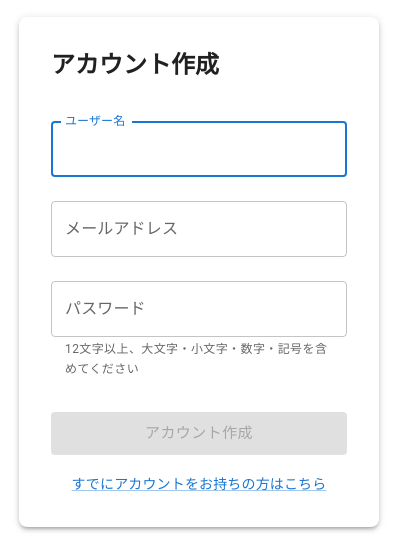
it: Register › ユーザー名・メール・パスワードが揃うまで送信ボタンは無効
Expected: the button "アカウント作成" is disabled, [51,412,347,455]
Type "newmod" into the field labelled "ユーザー名" at (199, 150), box [51,122,347,178]
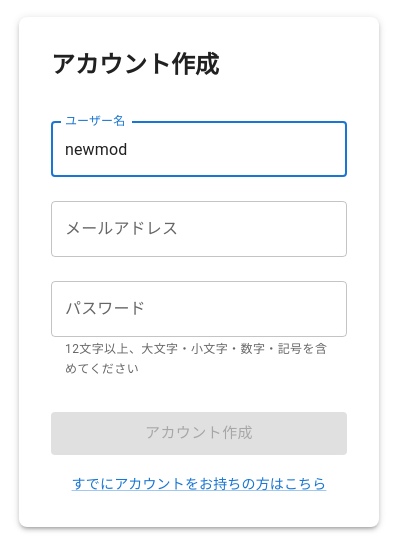
Expected: the button "アカウント作成" is disabled, [51,412,347,455]
Type "newmod@example.com" into the field labelled "メールアドレス" at (199, 230), box [51,202,347,258]
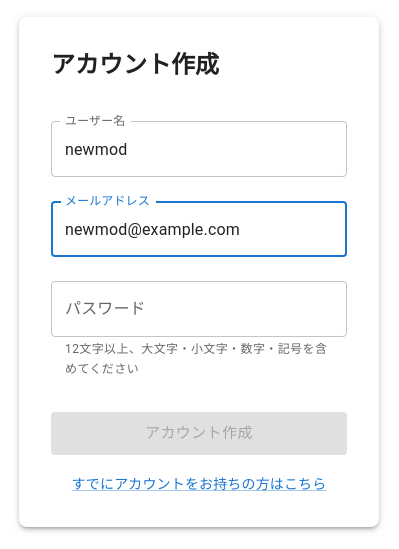
Expected: the button "アカウント作成" is disabled, [51,412,347,455]
Type "SecurePass123!" into the password field labelled "パスワード" at (199, 310), box [51,282,347,338]
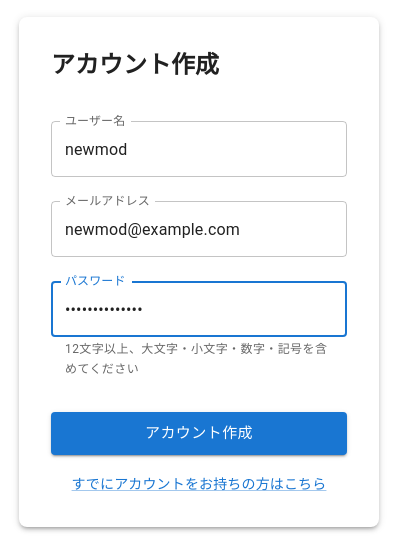
Result: the button "アカウント作成" is enabled at [51,412,347,455]
